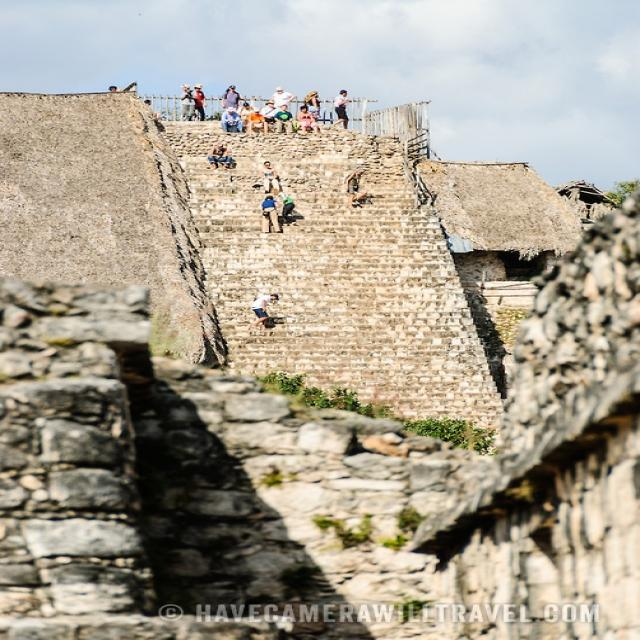body: (268, 187, 297, 226), (248, 293, 280, 327), (341, 167, 368, 206), (328, 88, 353, 130), (259, 195, 283, 233), (186, 83, 208, 122), (295, 104, 320, 136), (272, 103, 297, 135), (177, 83, 198, 121), (206, 142, 233, 170), (269, 86, 298, 112), (260, 160, 282, 194), (219, 105, 245, 133), (303, 90, 324, 123), (143, 99, 164, 132), (220, 84, 243, 112), (259, 99, 283, 125), (237, 102, 258, 127), (246, 108, 267, 123), (107, 85, 120, 92)
